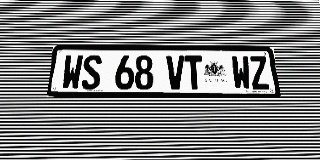6: (115, 55, 135, 90)
8: (135, 55, 153, 90)
S: (81, 55, 102, 90)
T: (184, 56, 204, 90)
V: (166, 55, 185, 90)
W: (61, 55, 83, 90), (231, 56, 252, 90)
Z: (249, 56, 270, 90)
